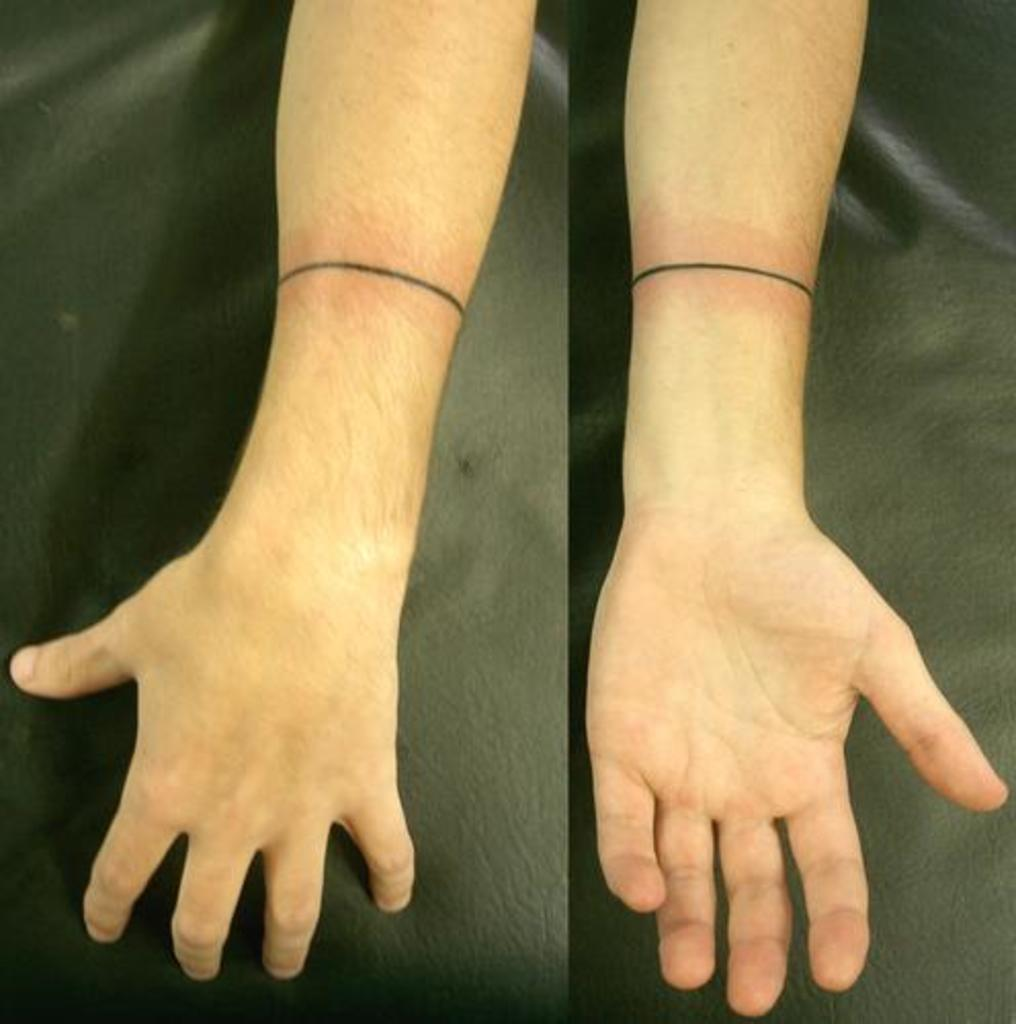Person: (5, 0, 540, 985), (587, 0, 1008, 1019)
